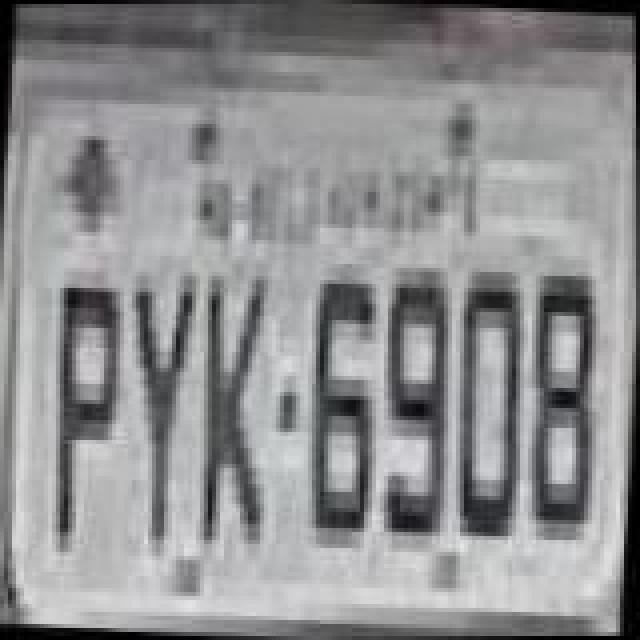6: (298, 272, 390, 544)
8: (524, 270, 612, 538)
9: (370, 268, 462, 544)
K: (192, 276, 288, 552)
O: (448, 272, 536, 544)
P: (42, 268, 134, 556)
Y: (114, 268, 206, 552)
